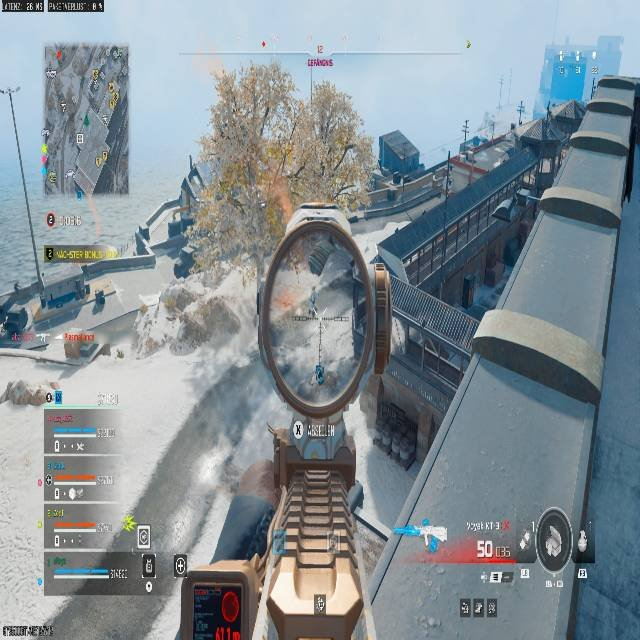player: (308, 287, 319, 318), (313, 362, 324, 384)
